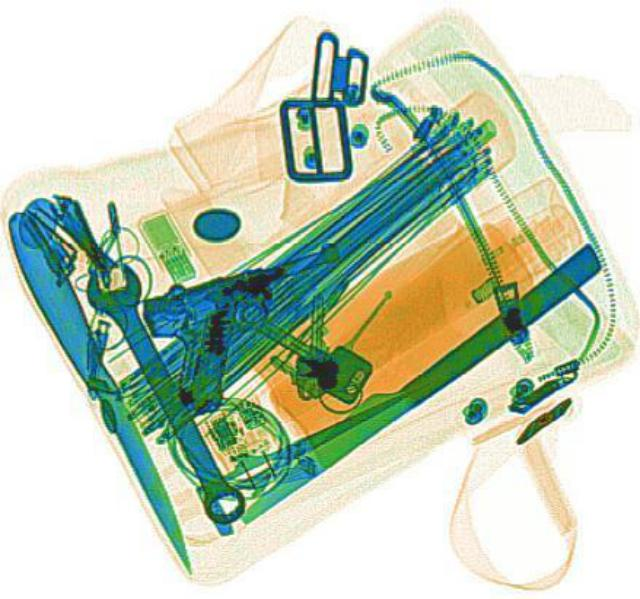Gun: (134, 244, 378, 415)
Knife: (222, 234, 608, 527), (0, 218, 211, 576), (193, 378, 417, 507)
Wrench: (76, 258, 258, 529)
